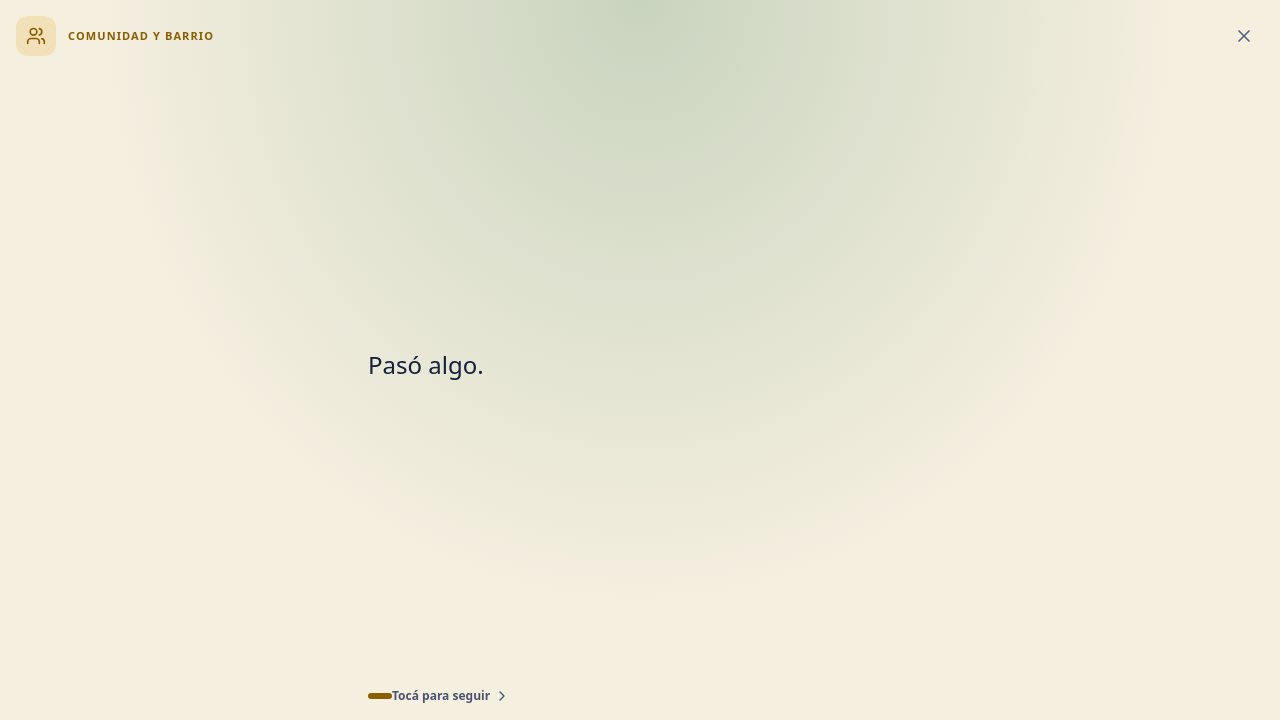
inicio: próximo paso y misión inicial › con decisiones pendientes ofrece decidir y abre la historia a pantalla completa
Click the button named "Dejar para más tarde": (1244, 36) [1224,16,1264,56]
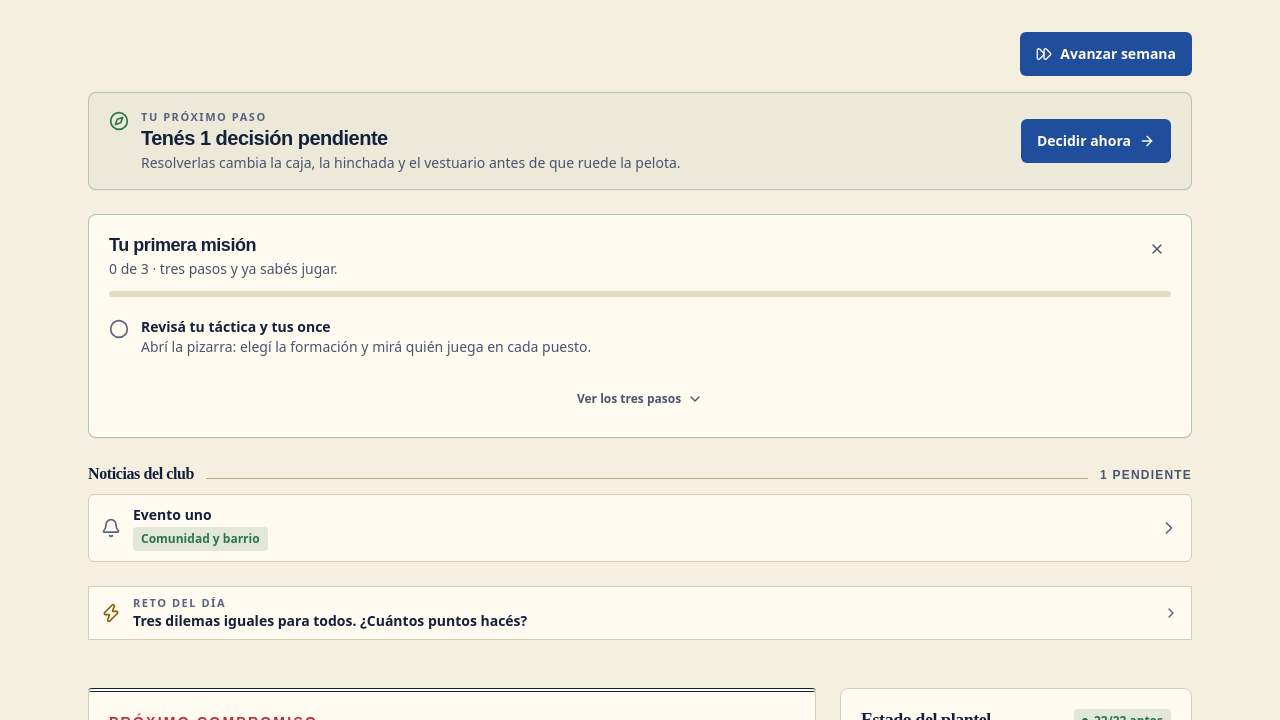
Expected: the heading "Tenés 1 decisión pendiente" is shown, [141,126,388,148]
Now the dialog is gone
Click the button "Decidir ahora": (1096, 141) [1021,119,1171,163]
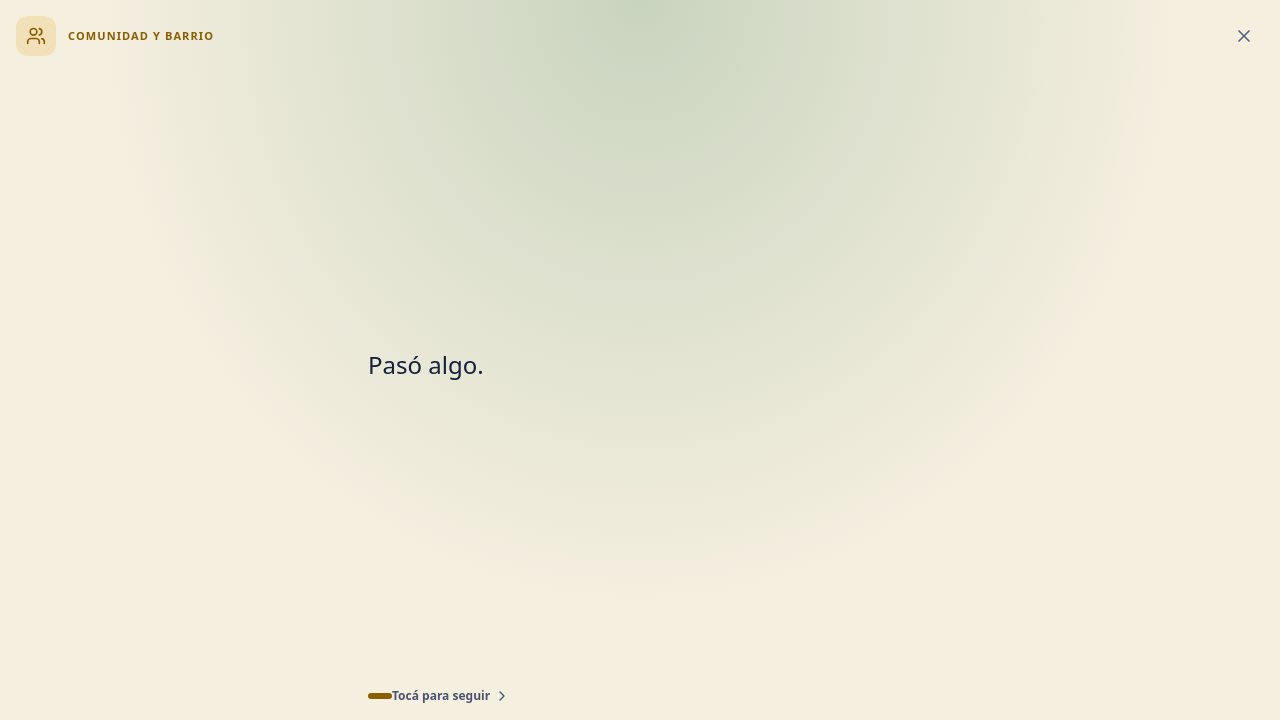
Now the dialog named "Evento uno" is shown
